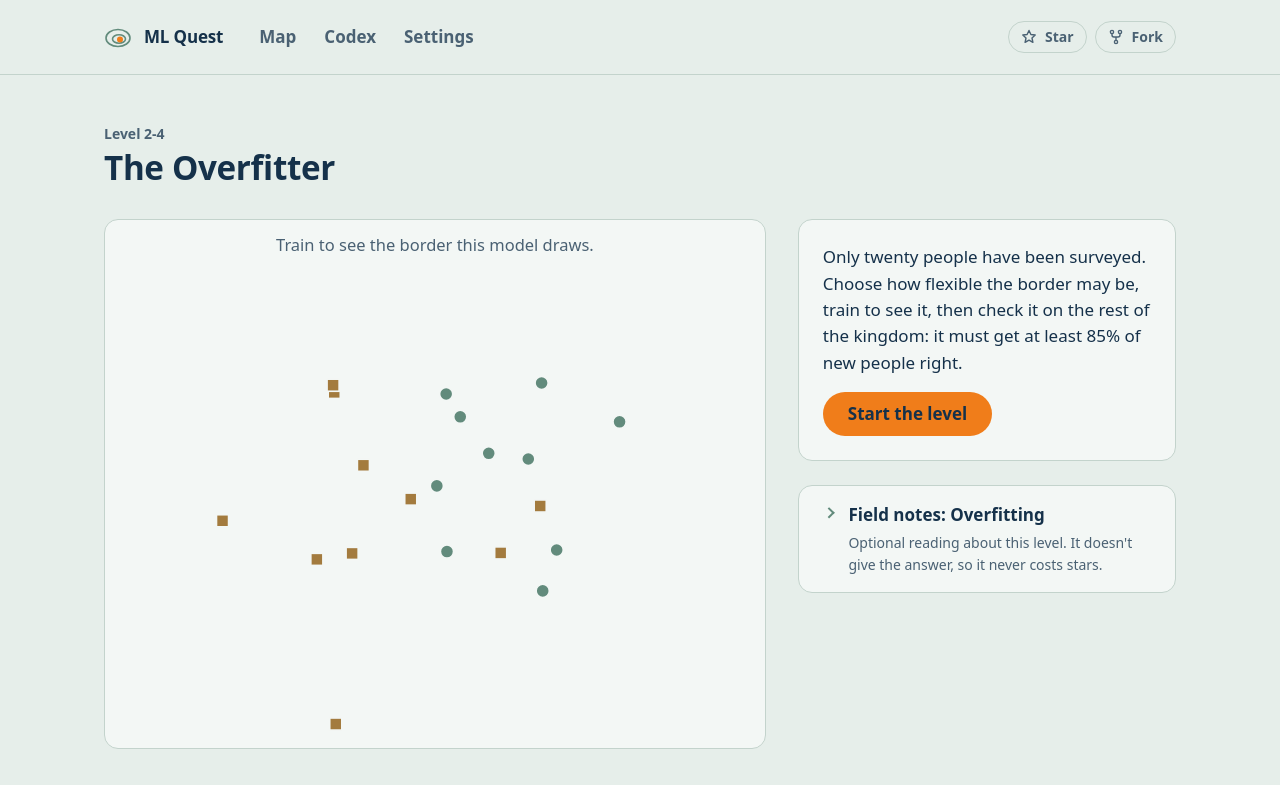
Test case: App › The Overfitter: 100% on training is the trap; the simple model generalizes
Click the button "Start the level".
click(907, 414)  # box [823,392,992,436]
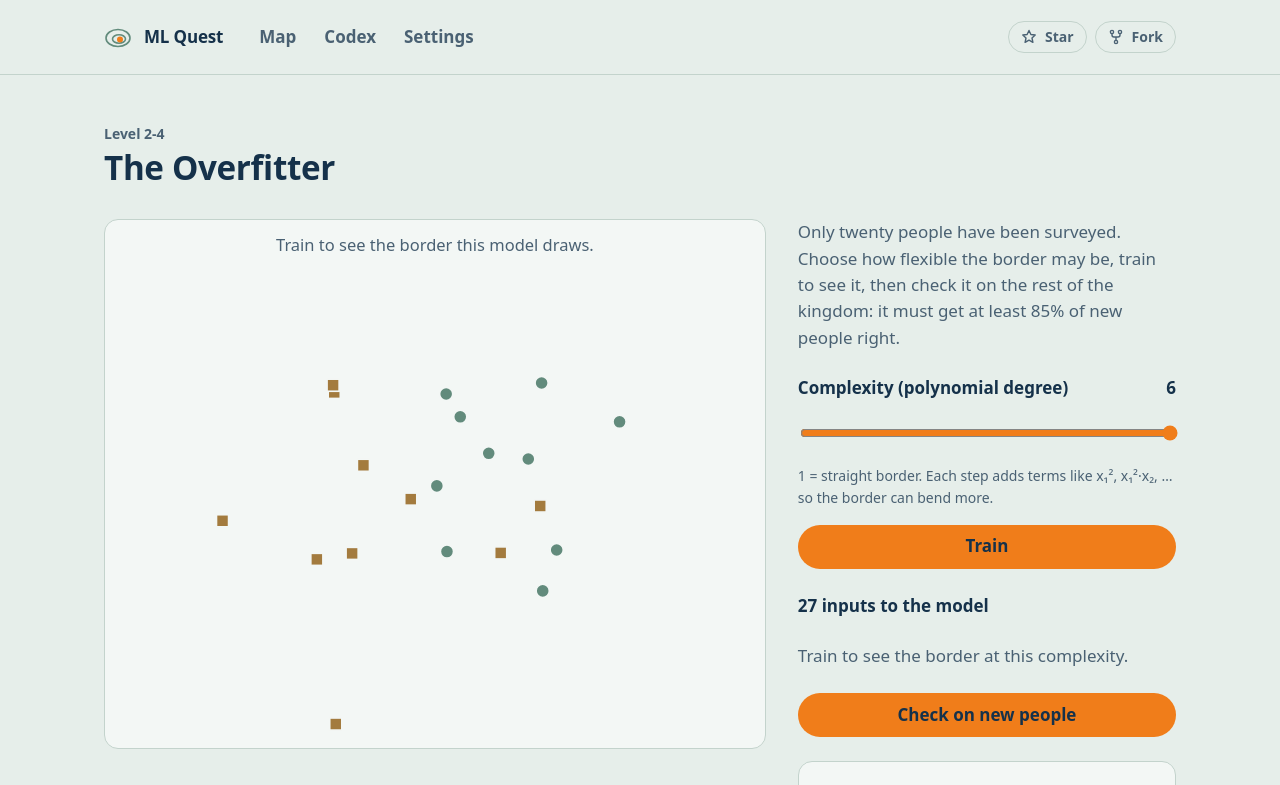
Now the text "27 inputs to the model" is shown, box [798,594,989,617]
Click the button "Train".
click(987, 547)  # box [798,525,1176,569]
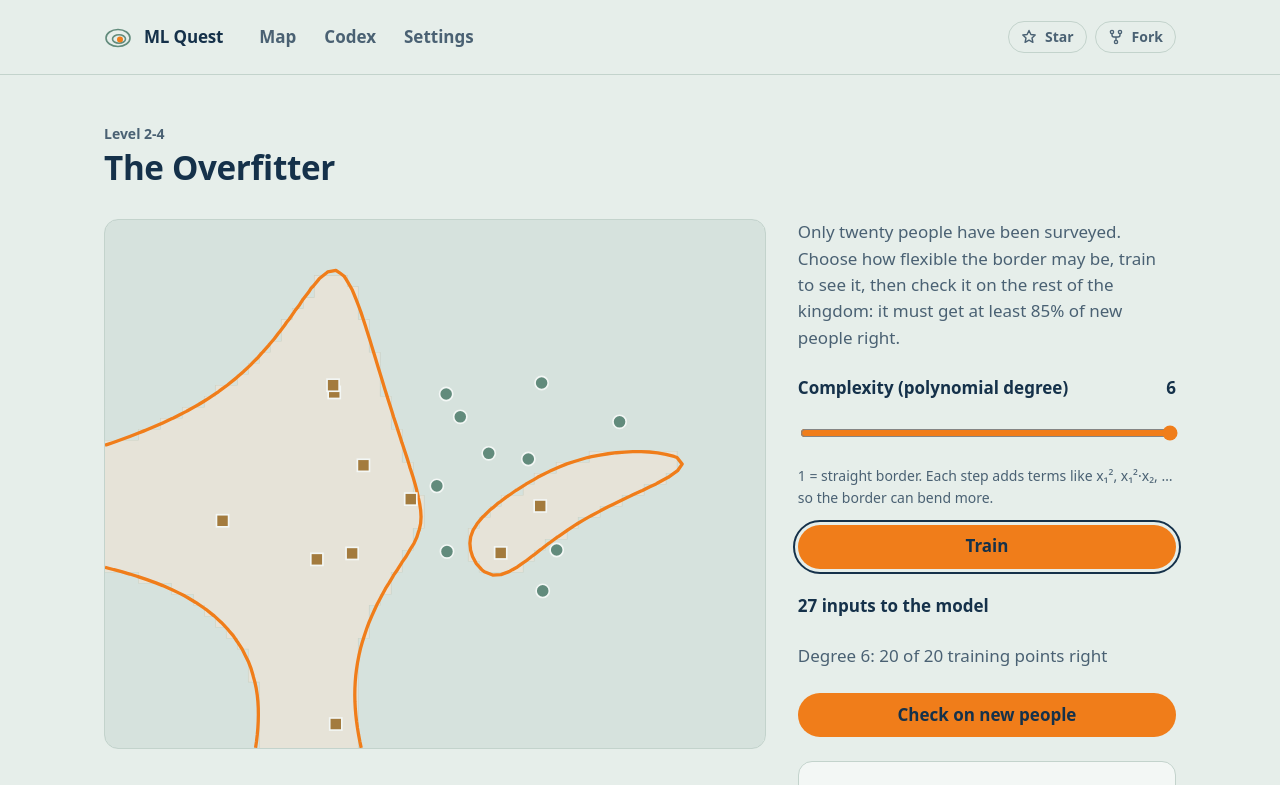
Expected: the text "Hollow marks" is not shown
Now the text "Degree 6: 20 of 20 training points right" is shown, box [798,644,1107,667]
Click the button "Check on new people".
click(987, 715)  # box [798,693,1176,737]
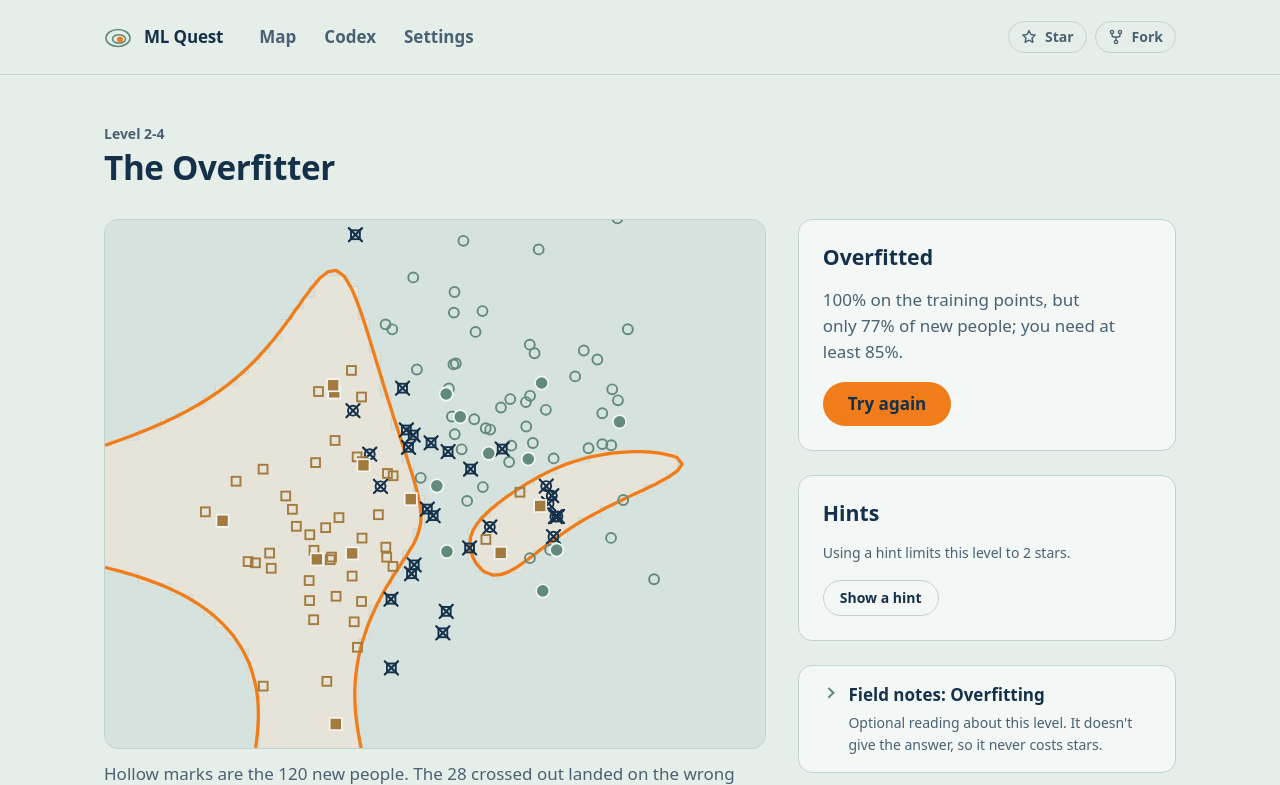
Now the heading "Overfitted" is shown, box [823,242,933,271]
Click the button "Try again".
click(887, 404)  # box [823,382,951,426]
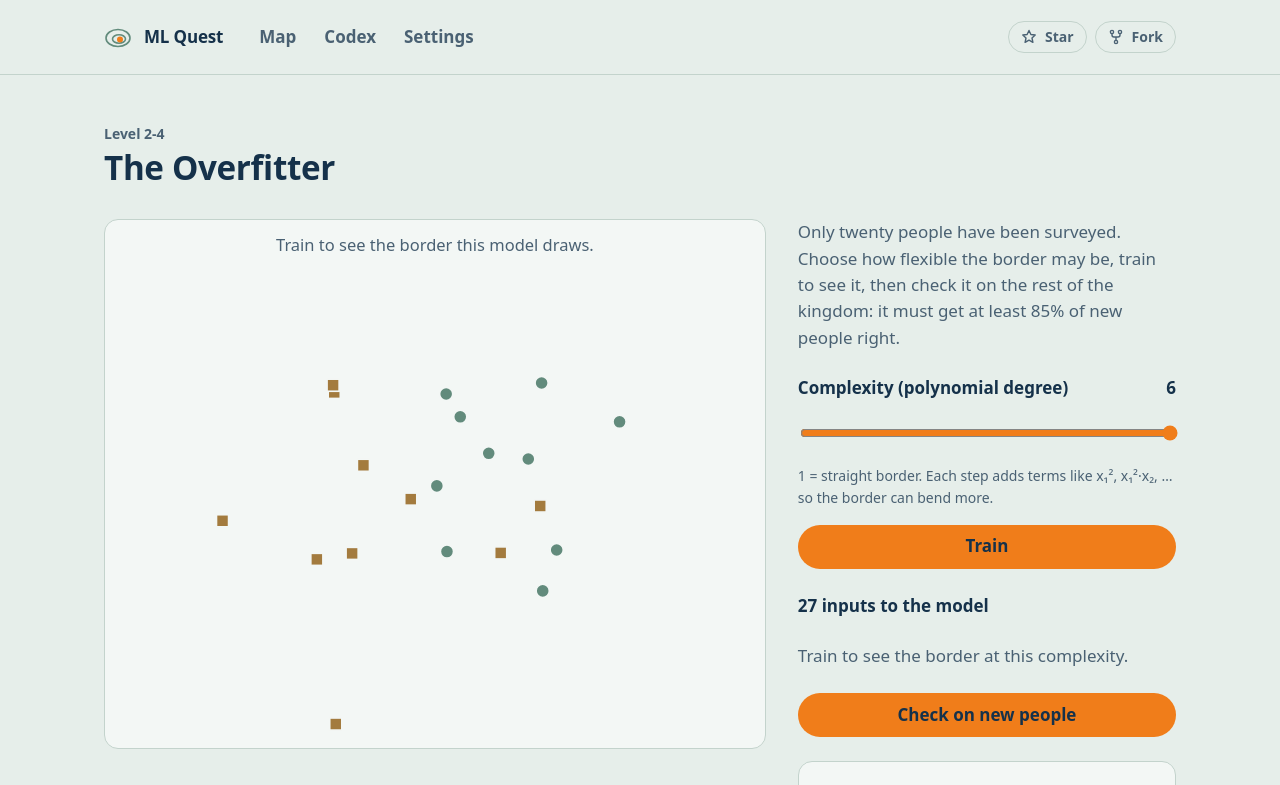
Set the slider labelled "Complexity (polynomial degree)" to "1" at [808, 433], box [800,411,1178,455]
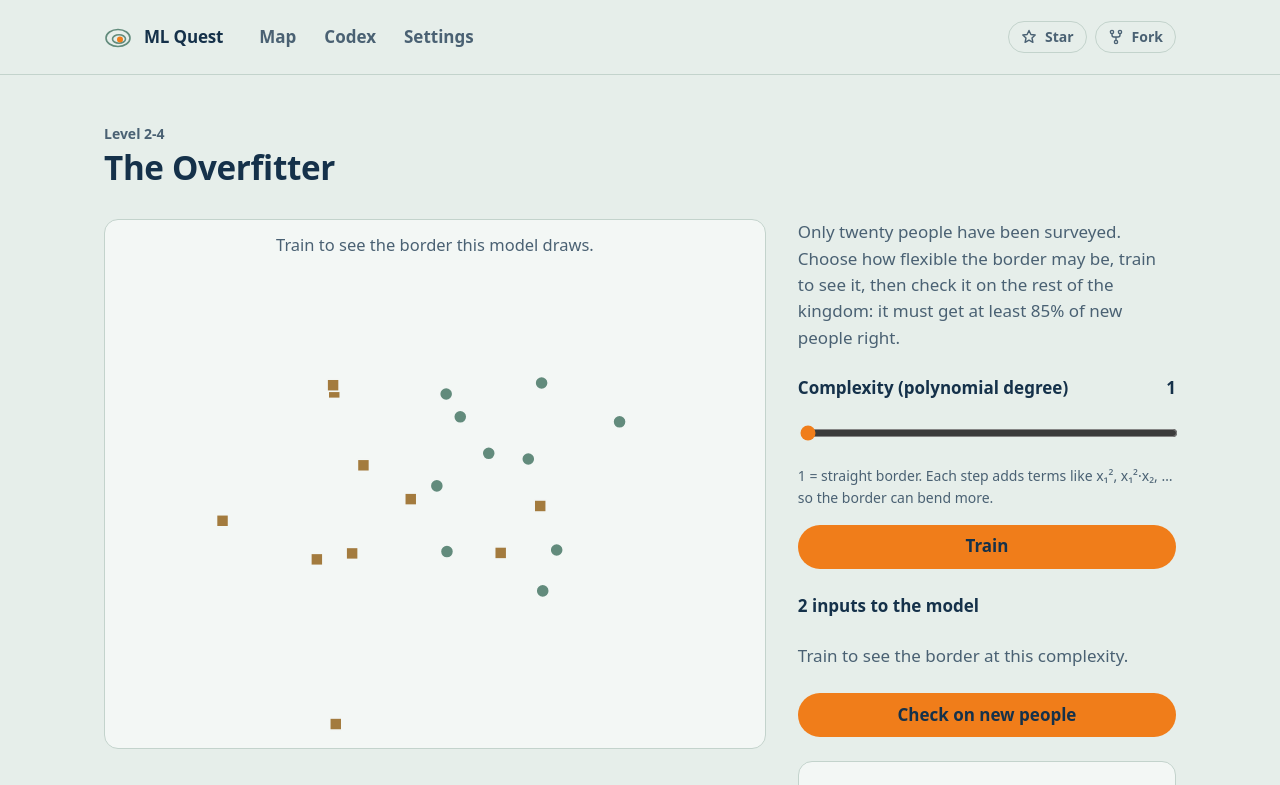
Click the button "Check on new people".
click(987, 715)  # box [798,693,1176,737]
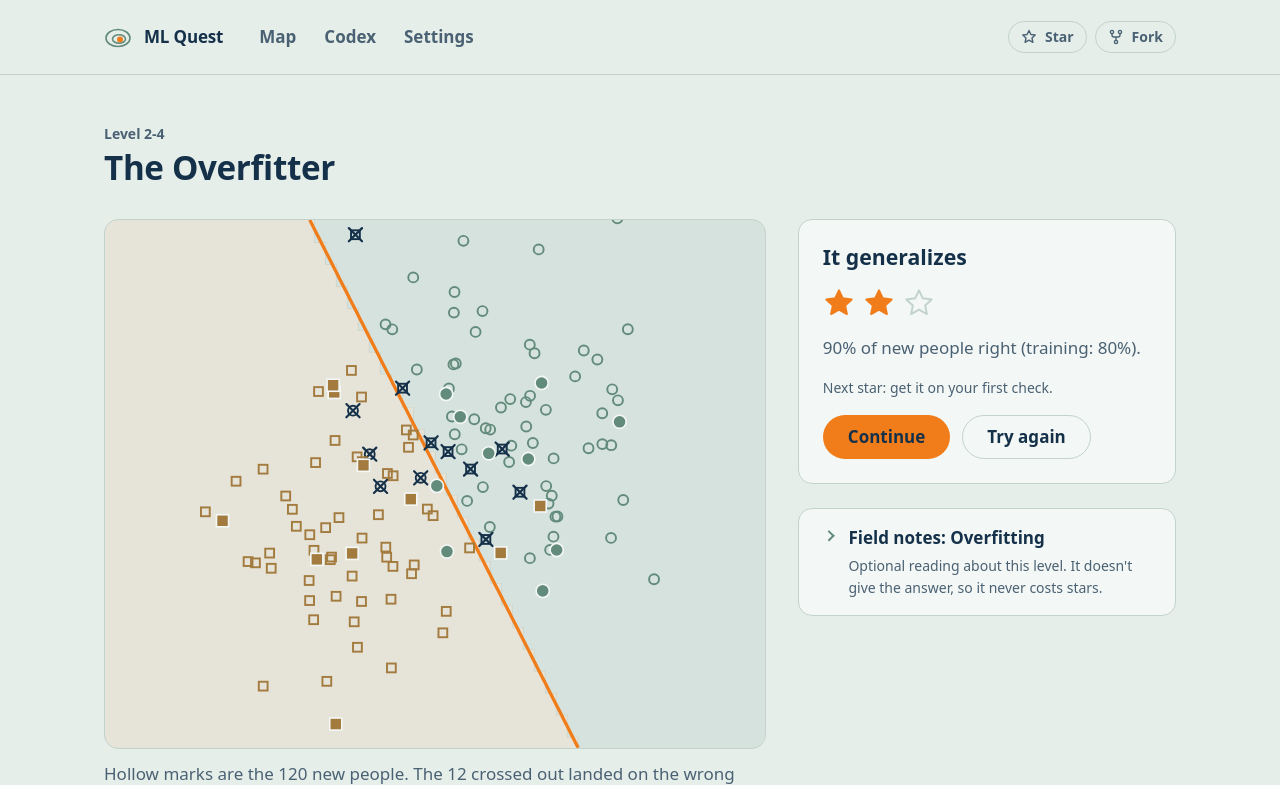
Now the heading "It generalizes" is shown, box [823,242,967,271]
Now the picture named "2 of 3 stars" is shown, box [823,287,935,319]
Now the text "Next star: get it on your first check." is shown, box [823,378,1053,397]
